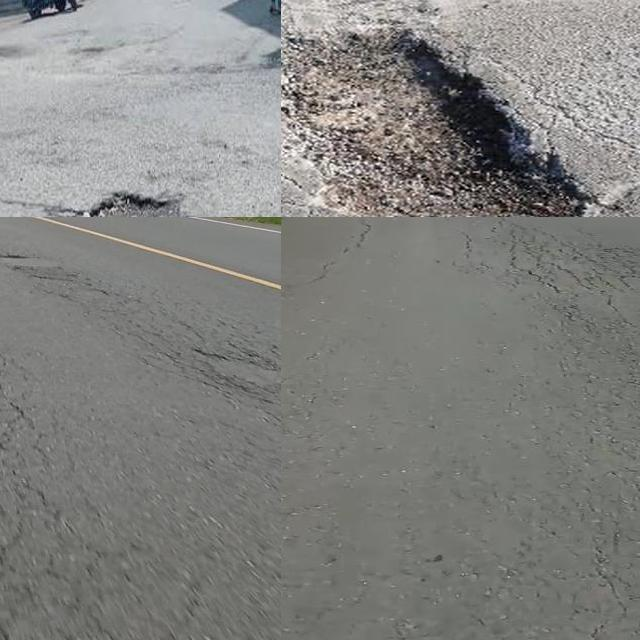Lubang: (281, 30, 587, 217), (89, 190, 182, 217)
Retak Buaya: (466, 224, 640, 322), (0, 359, 65, 613)
